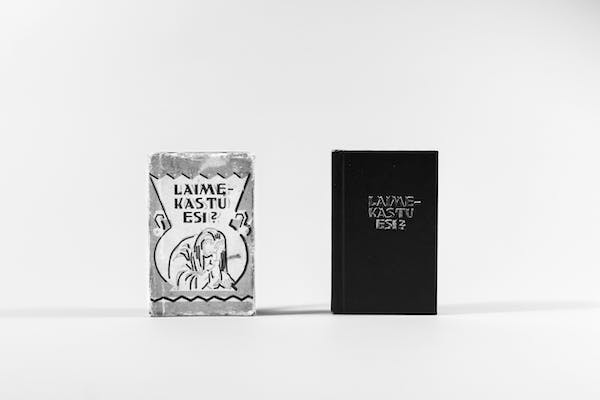book: (139, 143, 263, 324), (326, 144, 441, 321)
